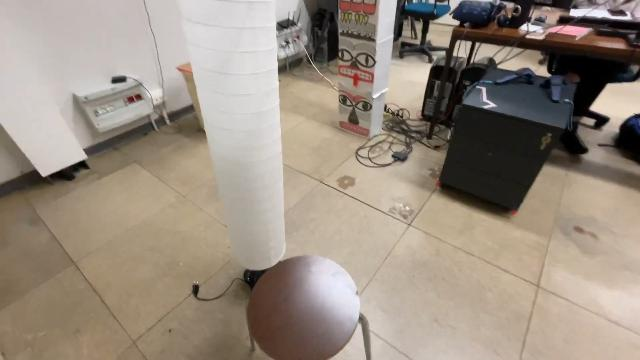Lamp: (176, 0, 288, 292)
Stool: (240, 252, 374, 360)
